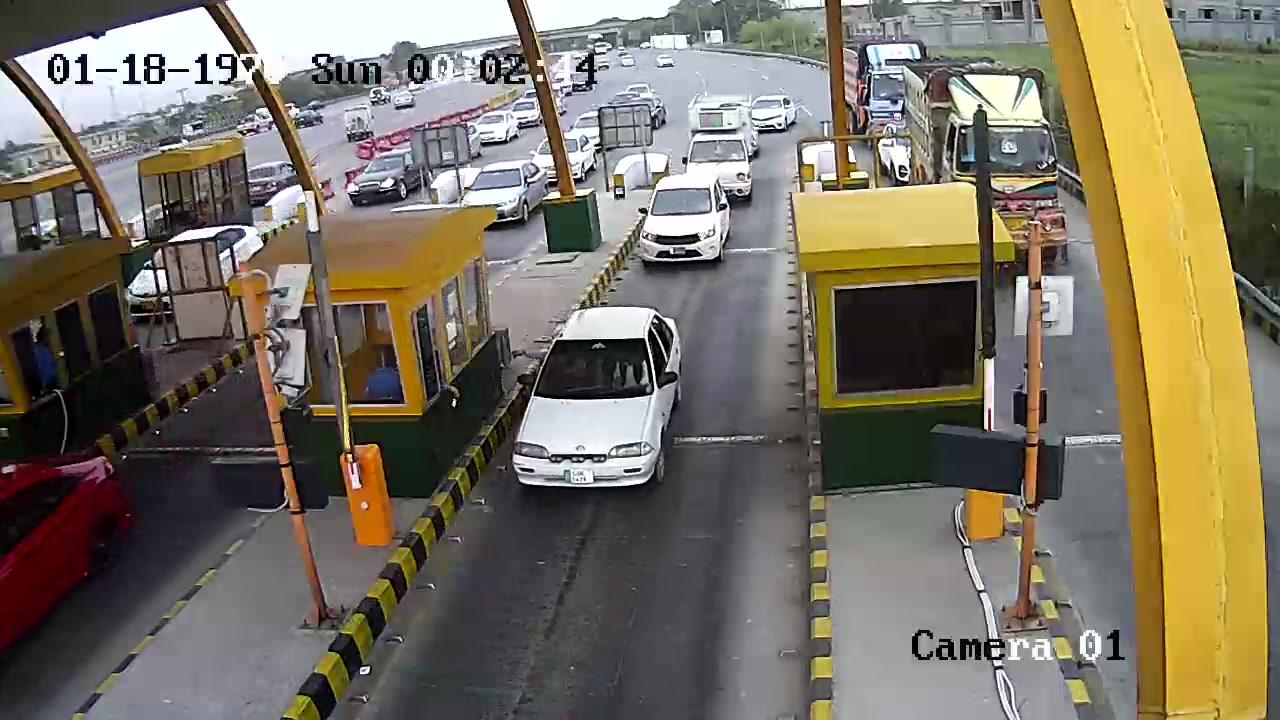F1: (500, 303, 689, 541)
